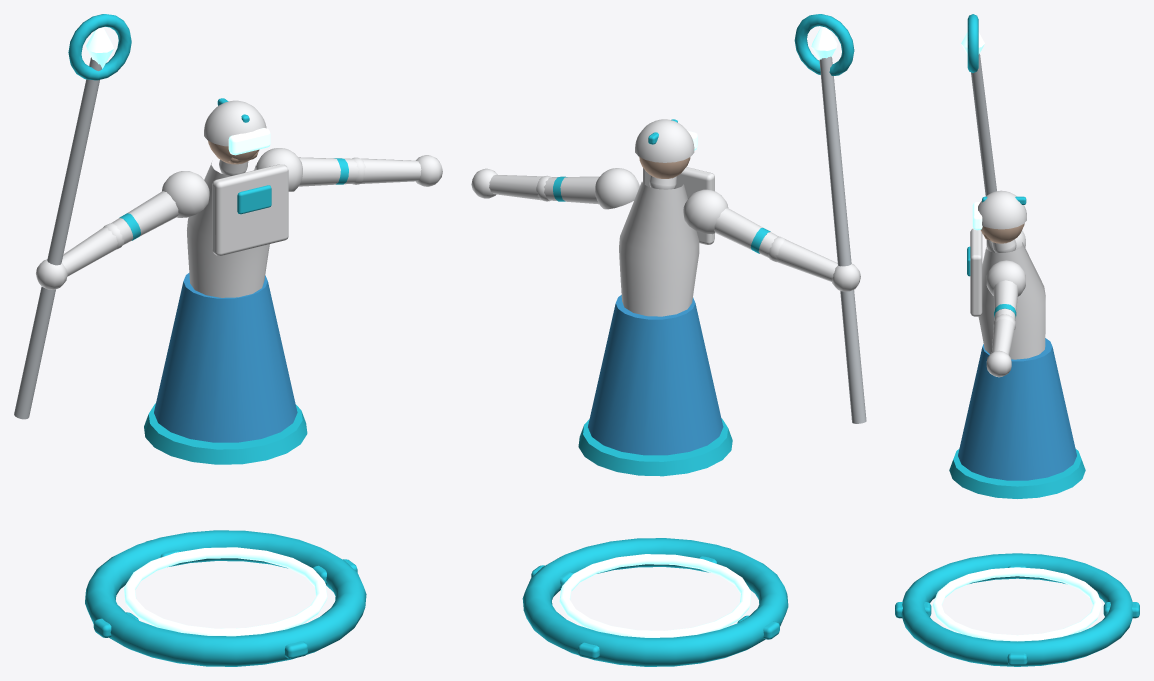
Rendered from hero-shooter-harbour-payload-hero-lumen-arms-spread-01a292c8__27657.glb.
3 renders of one model, left to right at view 1: azimuth 30°, elevation 25°; view 2: azimuth 150°, elevation 25°; view 3: azimuth 270°, elevation 25°, orthographic. The views are drawn at different scales.
Visible parts, largest first — view 1: hero-lumen-arms-spread, ring, crystal; view 2: hero-lumen-arms-spread, ring, crystal; view 3: hero-lumen-arms-spread, ring.
Part boxes in pixels (x1,y1,x2,y2): hero-lumen-arms-spread: (14,14,442,636); ring: (85,530,366,666); crystal: (86,27,113,68); hero-lumen-arms-spread: (471,14,866,637); ring: (522,538,788,666); crystal: (811,26,837,60); hero-lumen-arms-spread: (932,14,1102,641); ring: (895,553,1139,666).
Bounding box in the file's own units: 1.71 × 2.53 × 1.04.
